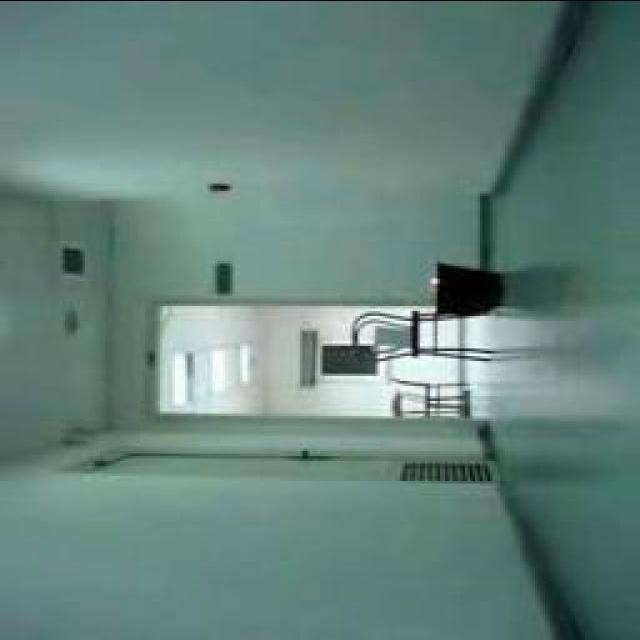Fire: (428, 270, 439, 278)
